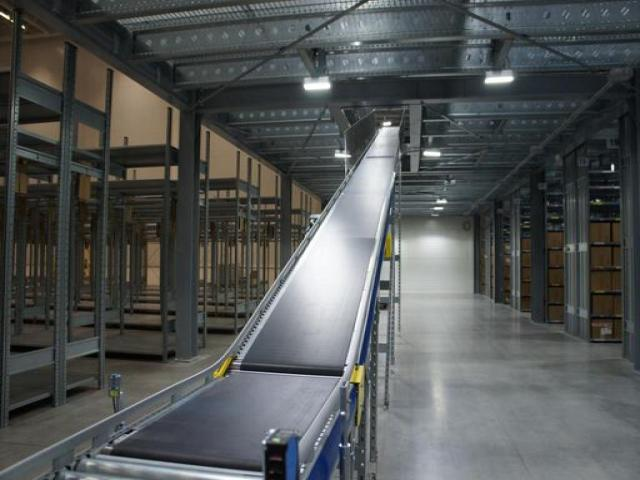conveyor: (0, 113, 406, 479)
